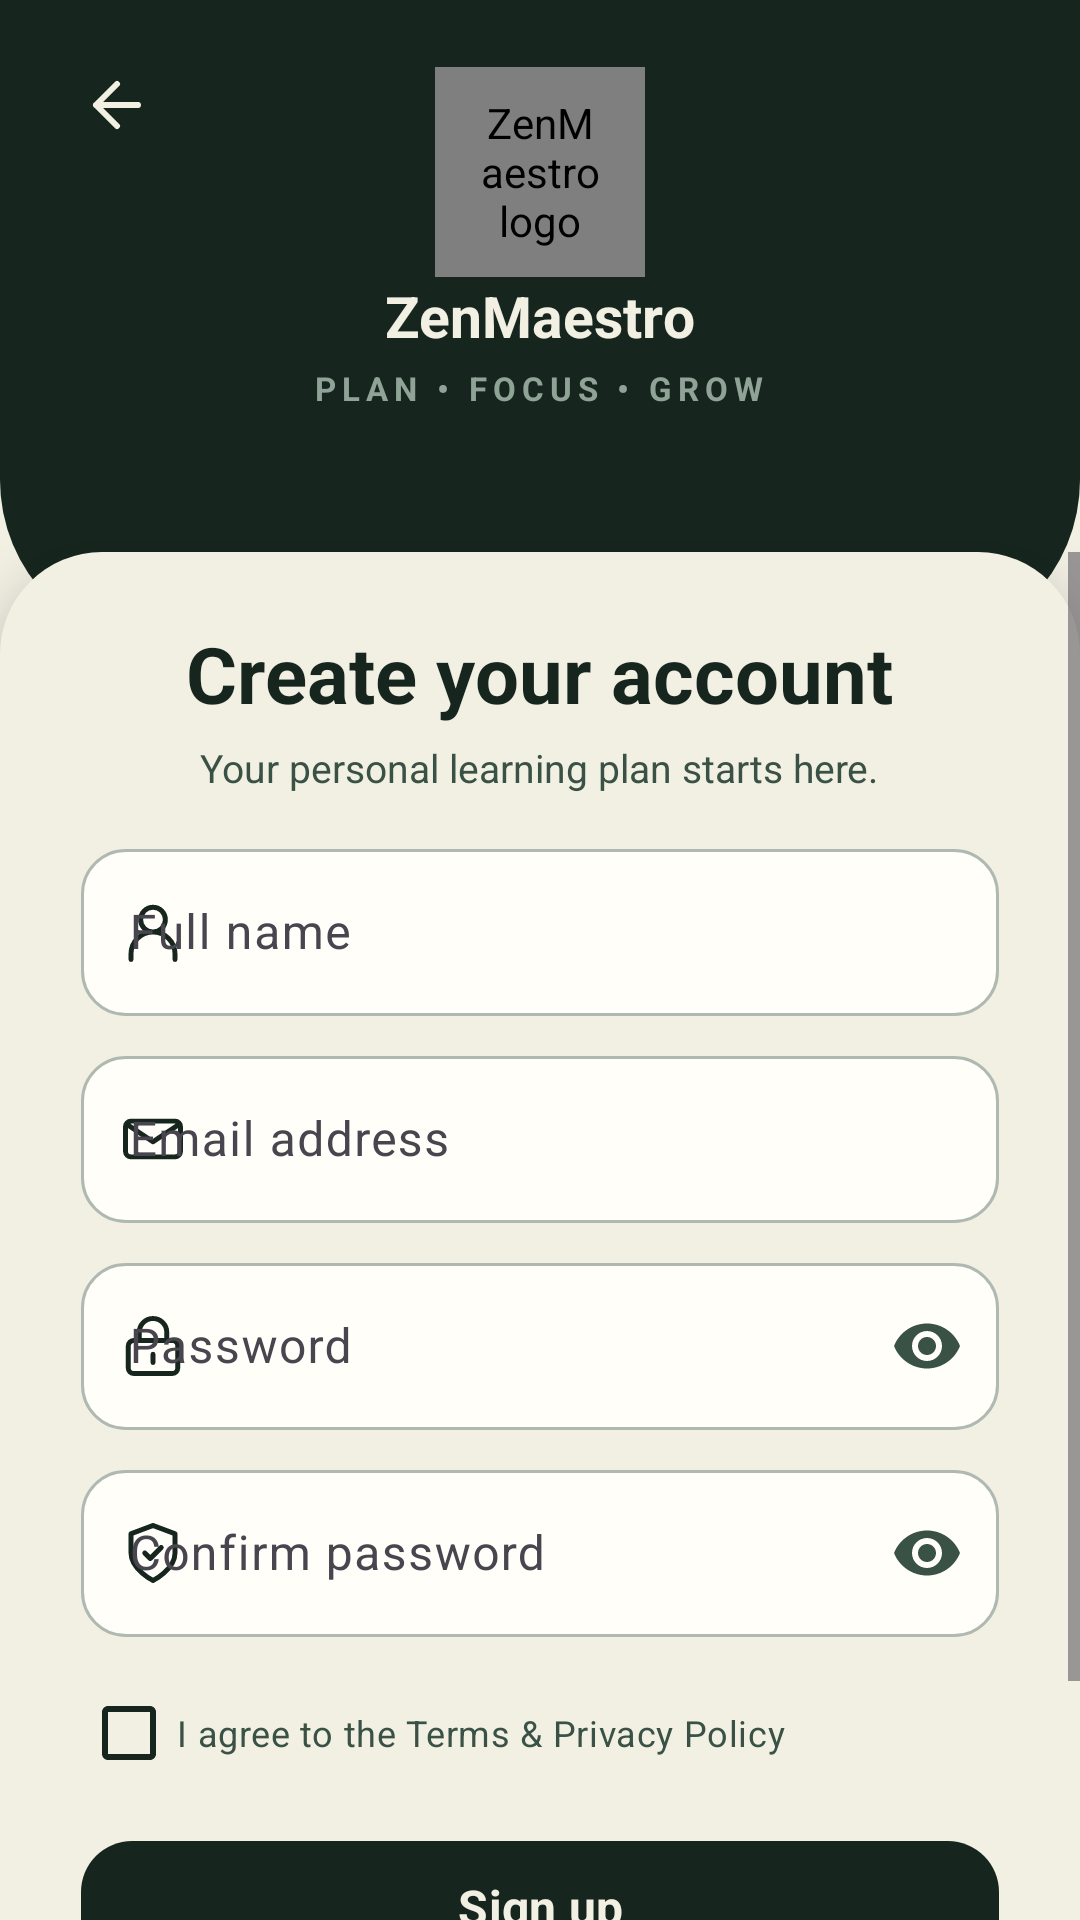

Icon bounding boxes for this 1080x1920 phone screenshot, format (x1, y1, x2, y2):
Back: (93, 81, 141, 129)
